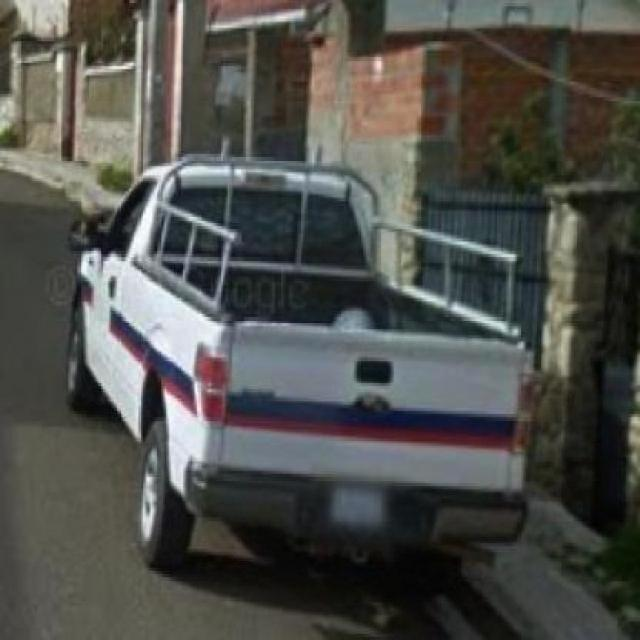car: (55, 139, 528, 596)
